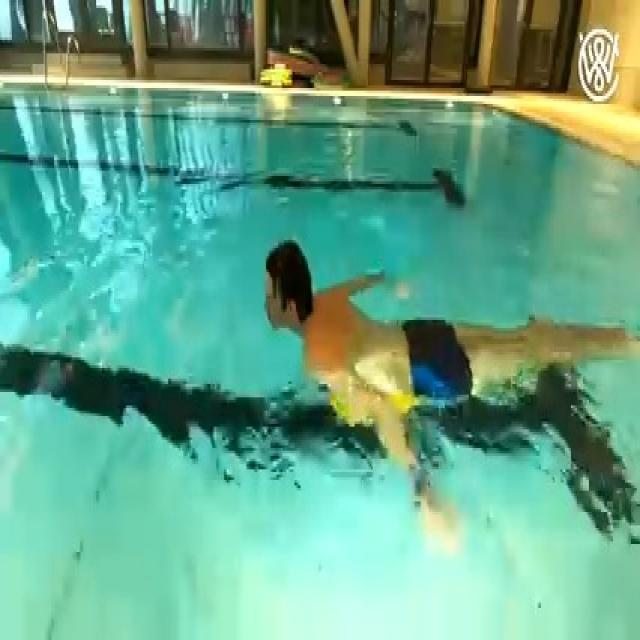Swimming: (258, 241, 640, 506)
